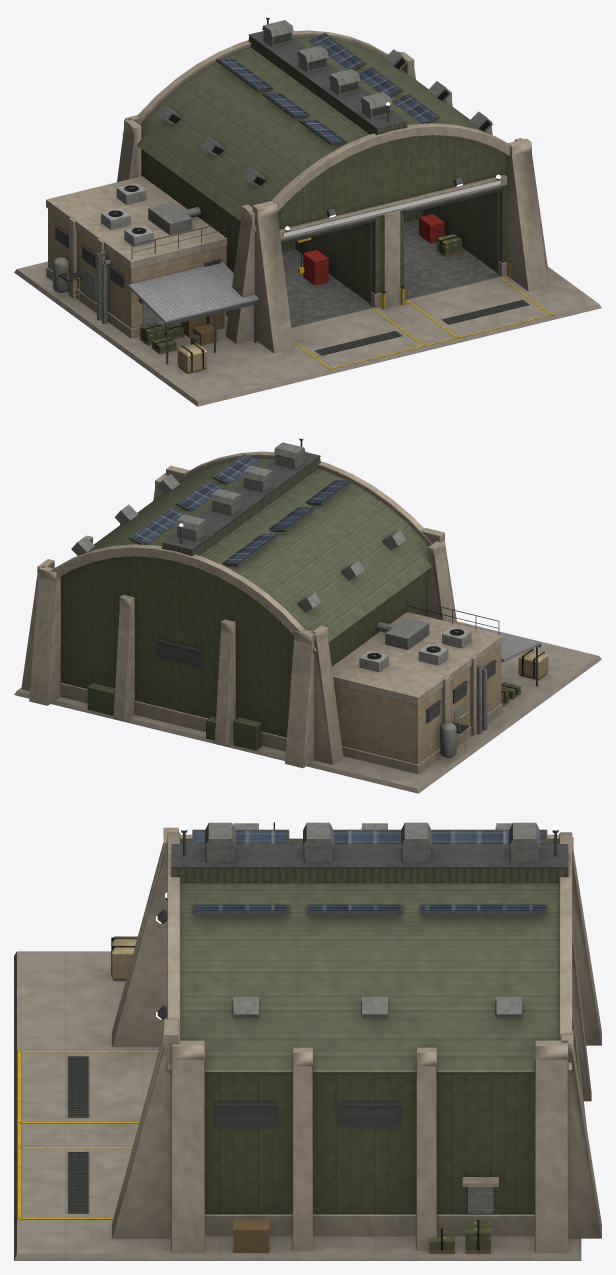
Rendered from war_factory.glb.
3 views of the same model, one above another, from view 1: azimuth 30°, elevation 25°; view 2: azimuth 150°, elevation 25°; view 3: azimuth 270°, elevation 25° (orthographic). The views are drawn at different scales.
Parts seen in each view (by area): view 1: Building, Props; view 2: Building, Props; view 3: Building, Props.
Boxes of the visible parts, x1,y1,x2,y2 form: Building: (14,17,601,406); Props: (52,214,511,373); Building: (14,438,601,793); Props: (87,649,548,757); Building: (14,822,601,1260); Props: (111,936,582,1253).
Size of the model in its own units: 28 by 13.52 by 22.8.
Materials: 9 (1 with a texture image).
